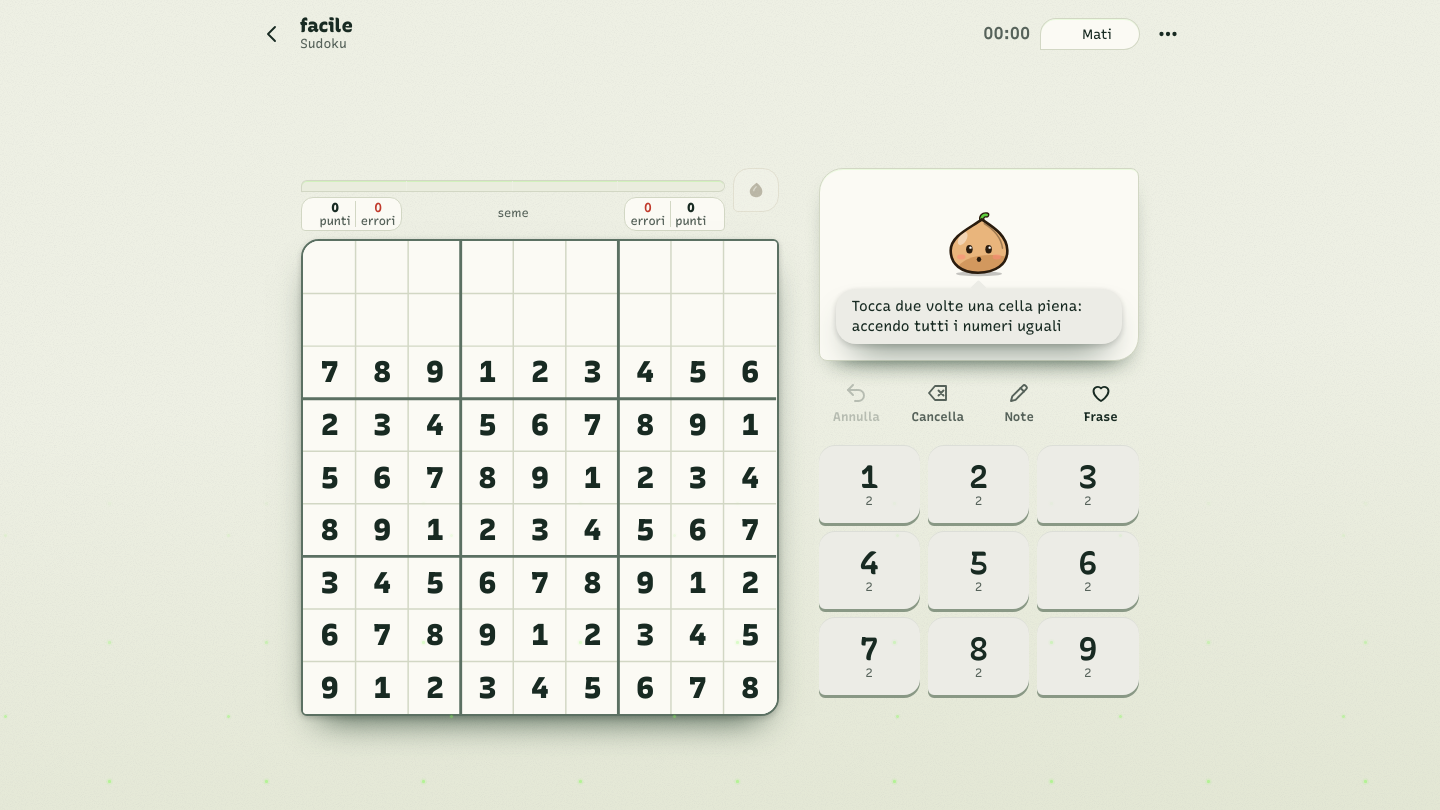
it: P10 suggerimento dei gesti › un tocco lo chiude prima
The width and height of the screenshot is (1440, 810).
Click the message with class "battuta" at (978, 316), box [836, 289, 1122, 344]
Wait 5000 ms
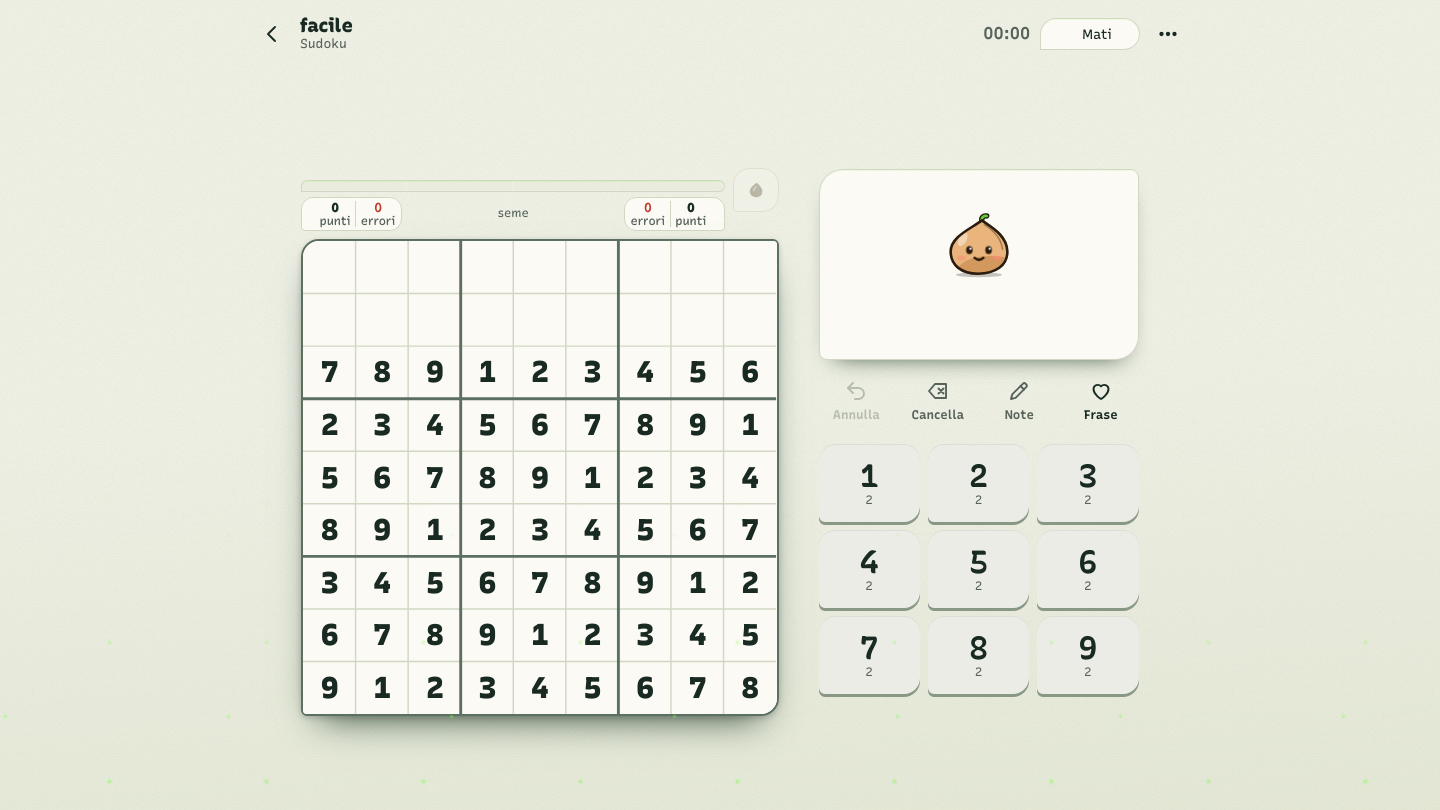
Expected: the text with test id "toast-testo" is gone
